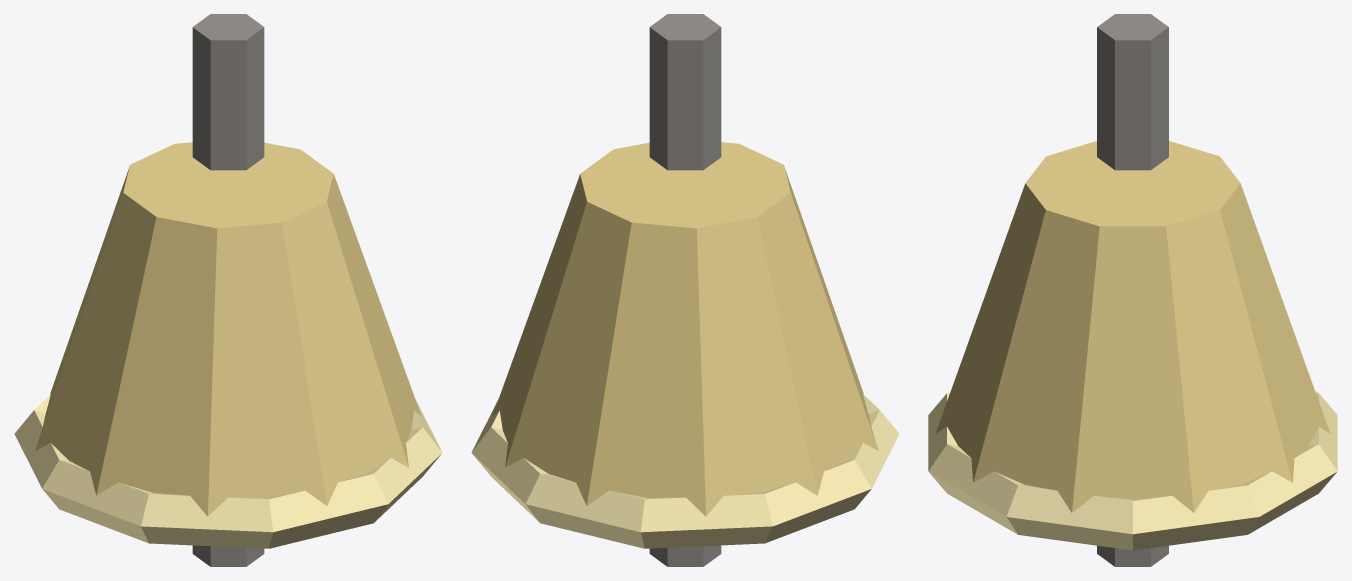
Rendered from brass_bell-C31KqhVO.glb.
The picture shows the model from 3 angles, left to right: view 1: azimuth 30°, elevation 25°; view 2: azimuth 150°, elevation 25°; view 3: azimuth 270°, elevation 25°; orthographic projection.
Visible parts, largest first — view 1: brass_bell_bell, brass_bell_lip, brass_bell_hanger, brass_bell_clapper; view 2: brass_bell_bell, brass_bell_lip, brass_bell_hanger, brass_bell_clapper; view 3: brass_bell_bell, brass_bell_lip, brass_bell_hanger, brass_bell_clapper.
Boxes of the visible parts, x1,y1,x2,y2 form: brass_bell_bell: [35, 142, 421, 516]; brass_bell_lip: [14, 394, 442, 548]; brass_bell_hanger: [192, 14, 264, 170]; brass_bell_clapper: [192, 545, 264, 566]; brass_bell_bell: [492, 142, 878, 516]; brass_bell_lip: [471, 394, 899, 548]; brass_bell_hanger: [649, 14, 721, 170]; brass_bell_clapper: [649, 545, 721, 566]; brass_bell_bell: [935, 141, 1330, 512]; brass_bell_lip: [928, 391, 1337, 550]; brass_bell_hanger: [1097, 14, 1168, 170]; brass_bell_clapper: [1097, 545, 1168, 566].
Size of the model in its own units: 0.3 by 0.405 by 0.2853.
